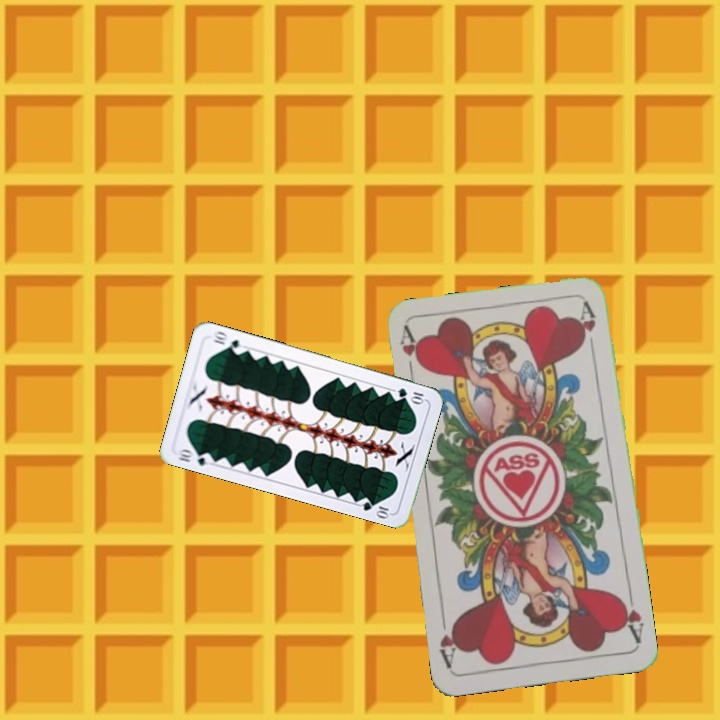G10: (174, 445, 215, 468), (393, 384, 428, 405)
HA: (615, 587, 646, 646), (395, 324, 424, 383)
